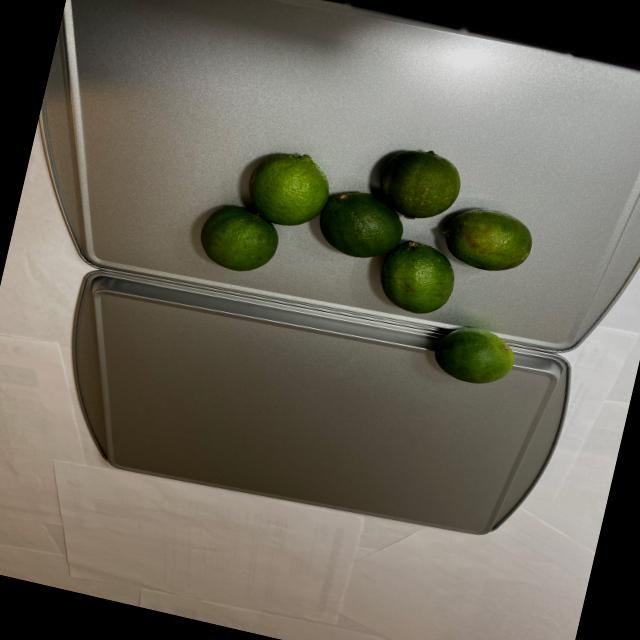lemon: (182, 102, 559, 392)
